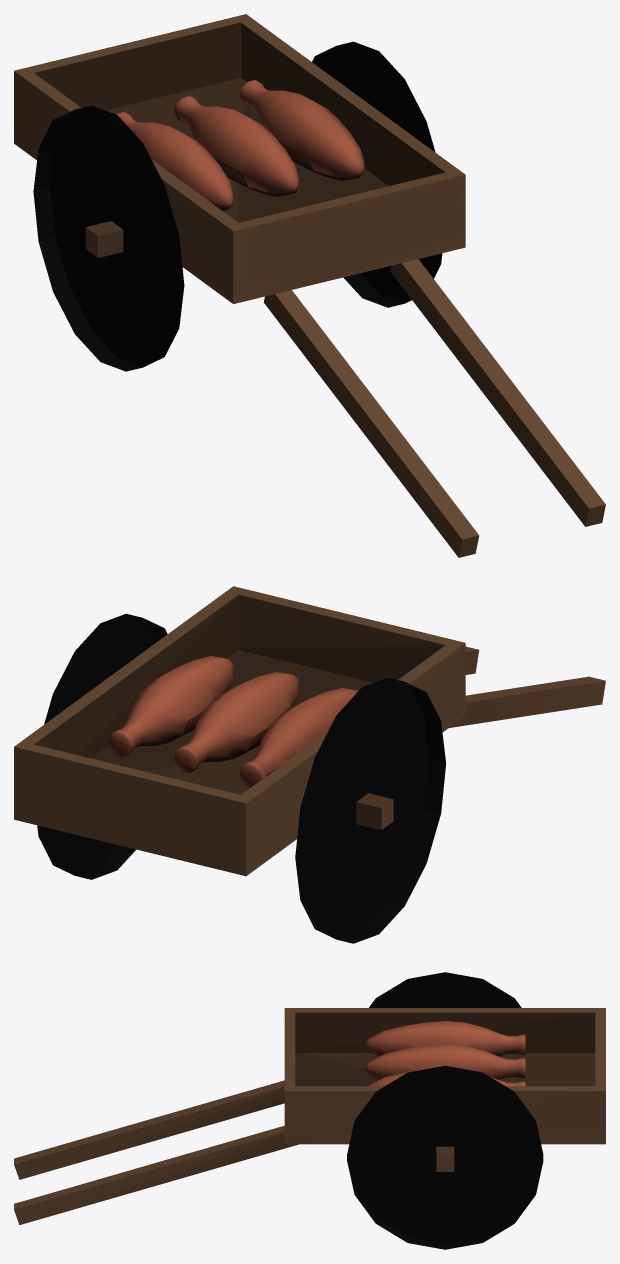
The model's file is rome_cart.glb.
The picture shows the model from 3 angles, top to bottom: view 1: azimuth 30°, elevation 25°; view 2: azimuth 150°, elevation 25°; view 3: azimuth 270°, elevation 25°; orthographic projection. The views are drawn at different scales.
Parts seen in each view (by area): view 1: rome_cart; view 2: rome_cart; view 3: rome_cart.
Part boxes in pixels (bbox=[...]): rome_cart: bbox=[14, 14, 605, 557]; rome_cart: bbox=[14, 586, 605, 943]; rome_cart: bbox=[14, 972, 605, 1249].
Size of the model in its own units: 1.4 by 1.1 by 3.32.
